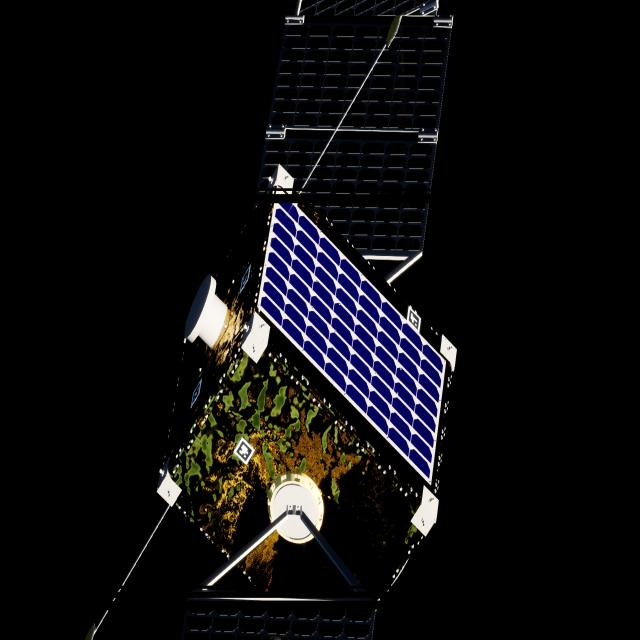medium_debris: (157, 15, 455, 604)
